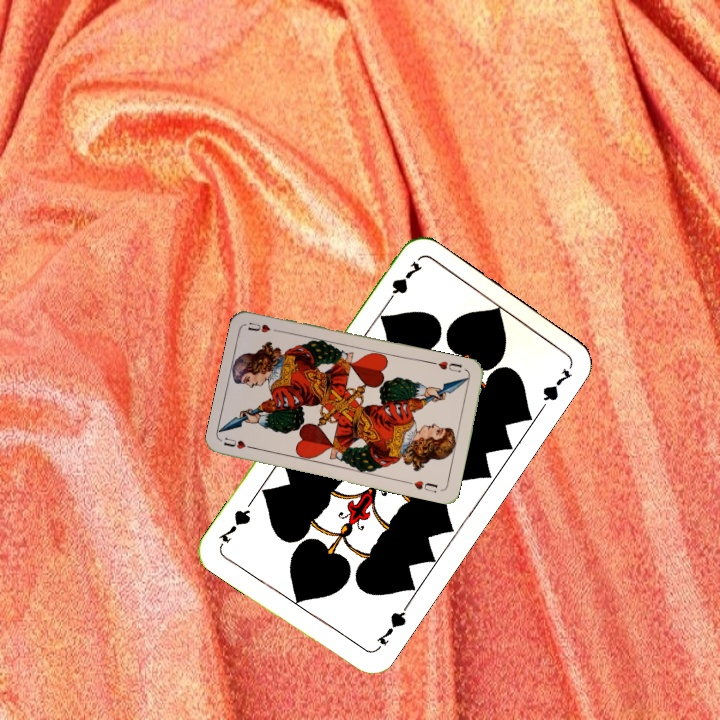G7: (381, 256, 426, 309), (371, 601, 410, 654)
HU: (220, 433, 259, 452), (434, 357, 464, 375)
